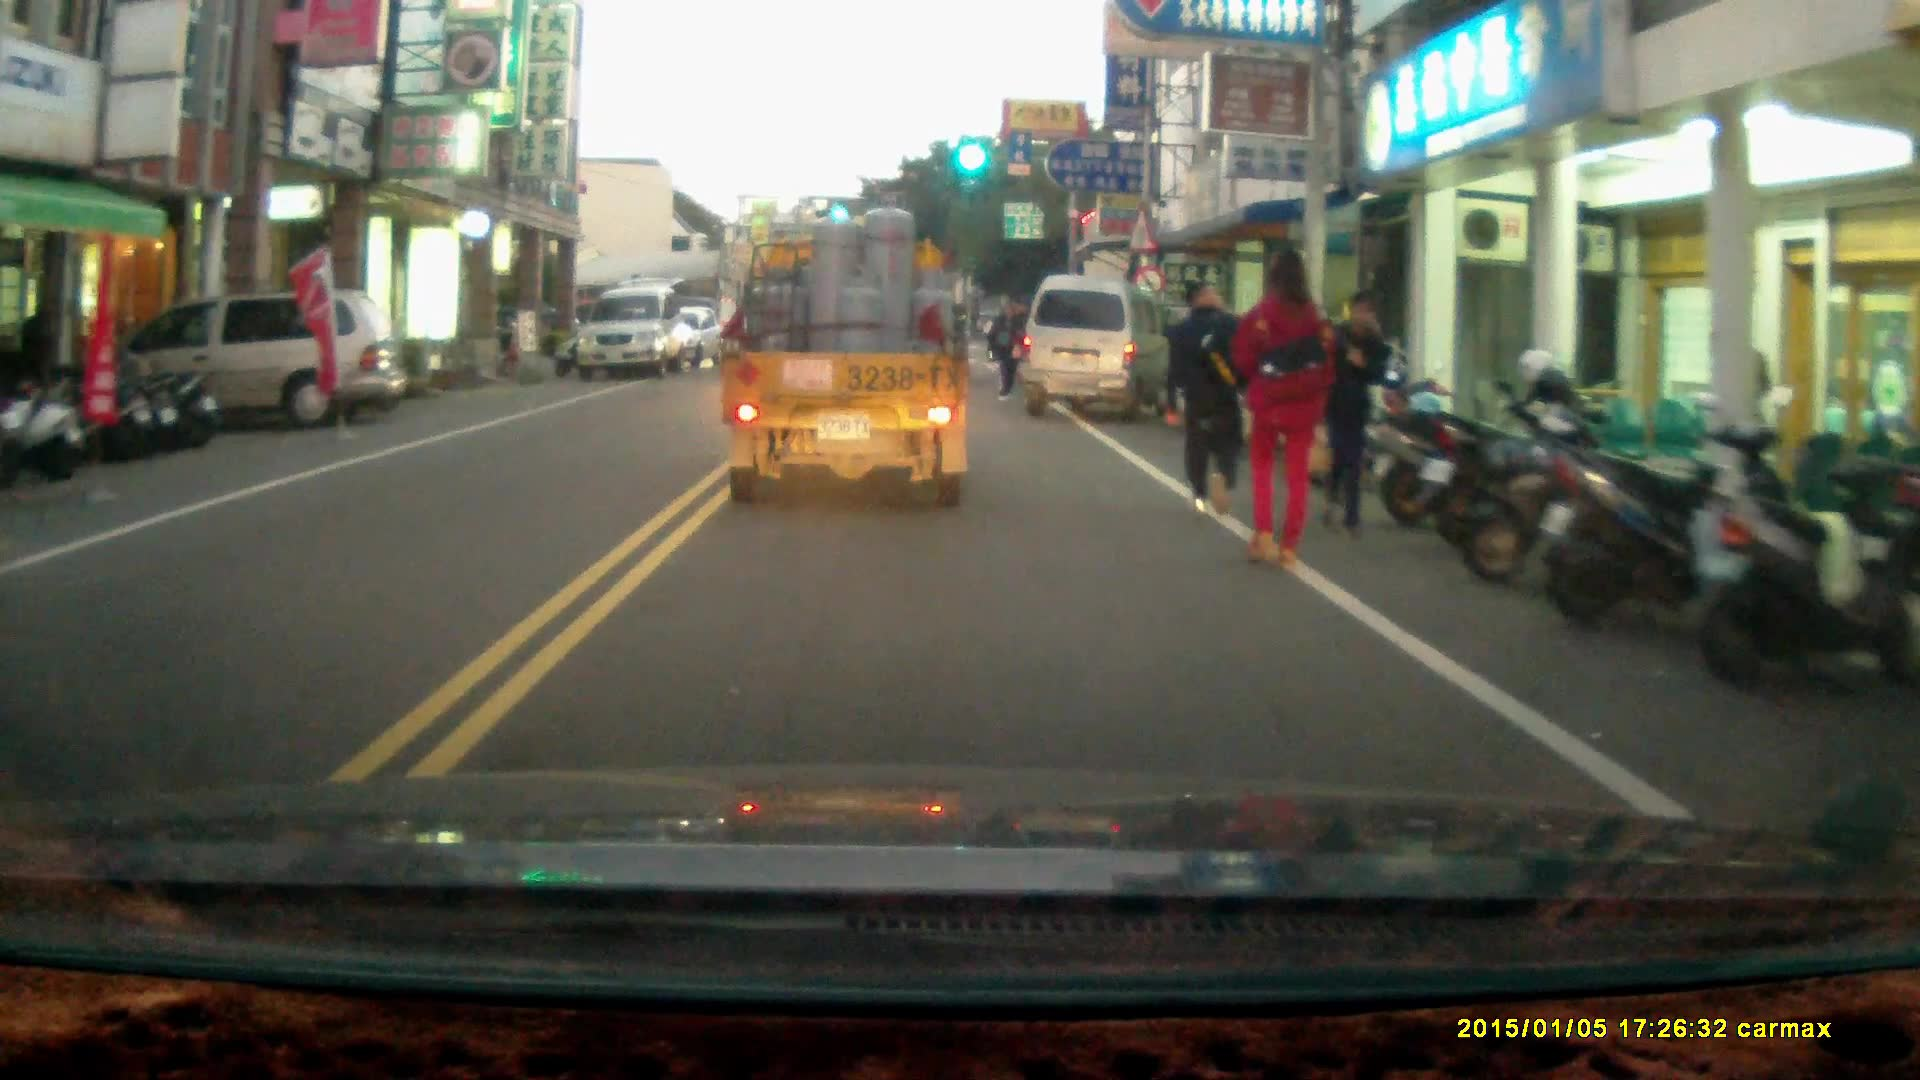pedestrian: (1235, 239, 1329, 578), (1160, 276, 1249, 518), (1315, 290, 1386, 539), (990, 302, 1025, 399)
vehicle: (712, 187, 978, 516), (106, 290, 403, 427), (1024, 274, 1173, 421), (583, 284, 700, 382)
